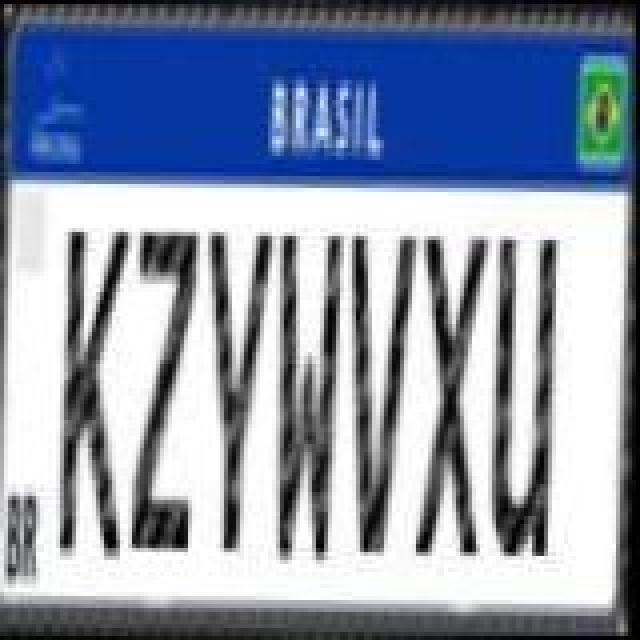K: (56, 226, 140, 566)
U: (486, 230, 566, 562)
V: (340, 230, 424, 558)
W: (268, 230, 352, 570)
X: (412, 232, 496, 564)
Y: (196, 230, 280, 558)
Z: (126, 228, 206, 560)
